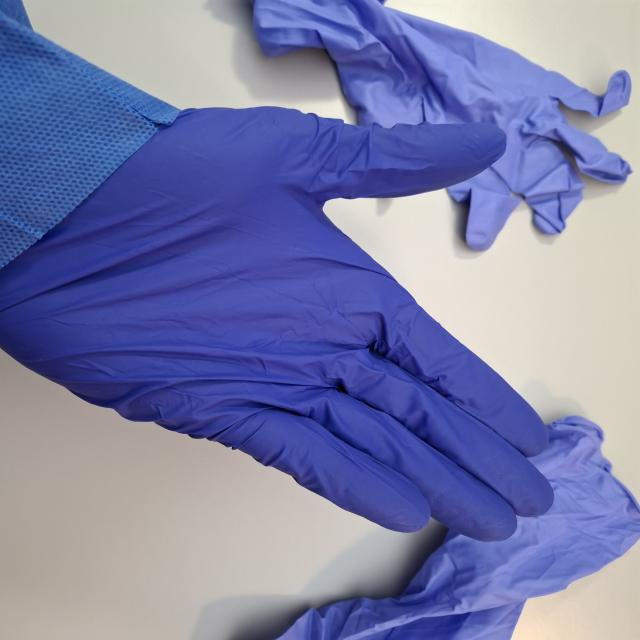glove_on: (0, 104, 559, 543)
